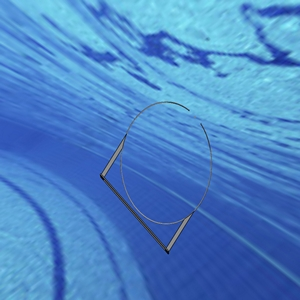circle: (98, 99, 213, 254)
